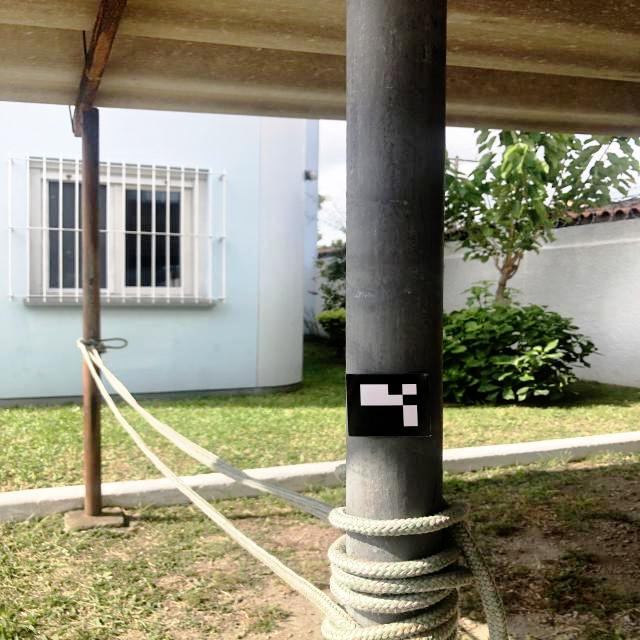Corrosion: (69, 0, 127, 340), (83, 356, 102, 516), (90, 358, 100, 379), (89, 350, 94, 355), (98, 353, 101, 358)
